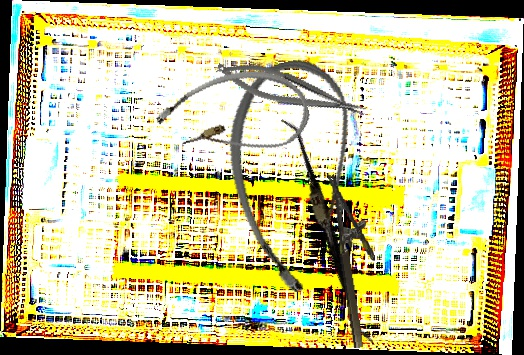Cannula: (211, 51, 385, 300), (150, 56, 316, 177)
Needle Holder: (212, 50, 370, 132), (327, 170, 388, 349)
Spatula Surgical: (206, 116, 448, 346)
